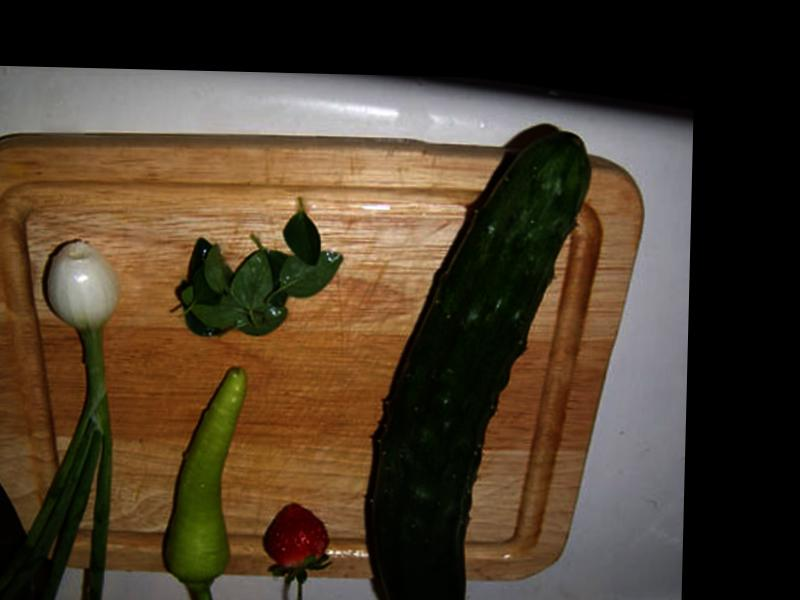Cucumber: (367, 127, 591, 600)
